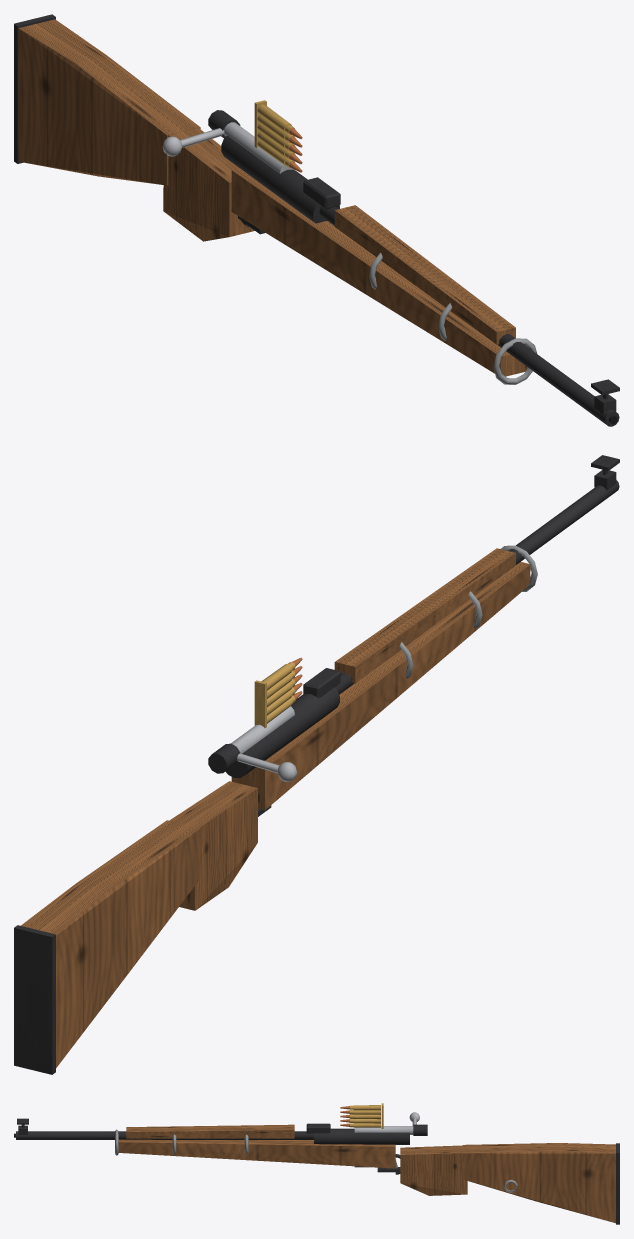
Rendered from OB_Karabin_wz29.fbx.
3 renders of one model, top to bottom at view 1: azimuth 30°, elevation 25°; view 2: azimuth 150°, elevation 25°; view 3: azimuth 270°, elevation 25°, orthographic. The views are drawn at different scales.
Parts seen in each view (by area): view 1: Bron, Lodka, Zamek; view 2: Bron, Zamek, Lodka; view 3: Bron, Lodka, Zamek.
Boxes of the visible parts, <box> form: Bron: <box>14,14,619,426</box>; Lodka: <box>254,100,302,172</box>; Zamek: <box>162,110,294,173</box>; Bron: <box>14,455,619,1074</box>; Zamek: <box>208,706,297,781</box>; Lodka: <box>254,657,302,728</box>; Bron: <box>14,1118,619,1224</box>; Lodka: <box>340,1103,383,1128</box>; Zamek: <box>354,1112,427,1135</box>.
Bounding box in the file's own units: 0.1105 × 0.265 × 1.26.
